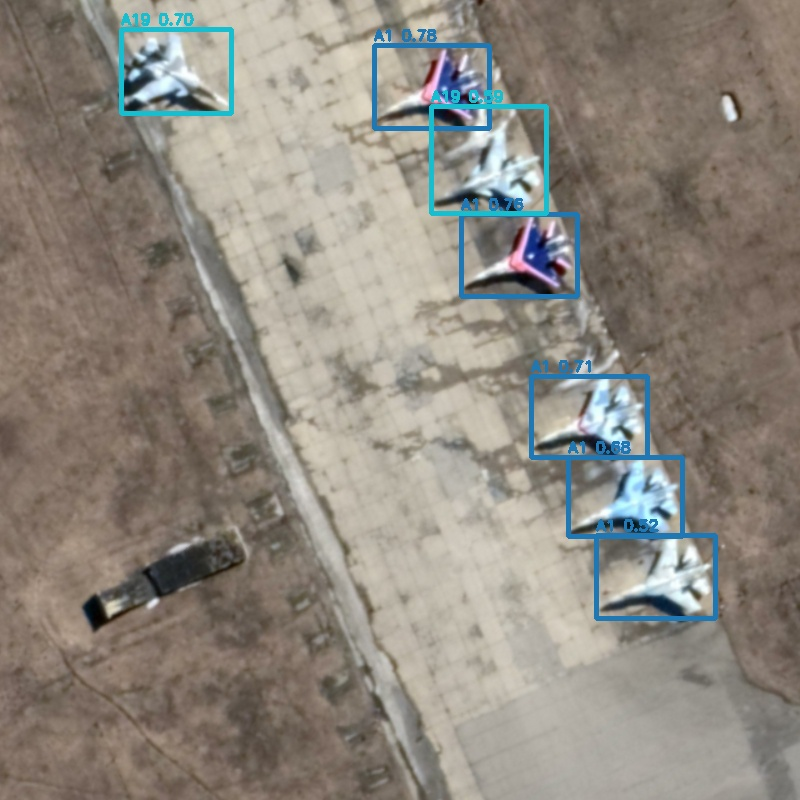A1: (596, 535, 715, 618), (374, 45, 489, 128), (461, 214, 577, 296), (531, 376, 647, 457), (568, 457, 682, 536)
A19: (431, 106, 546, 213), (121, 29, 231, 113)
